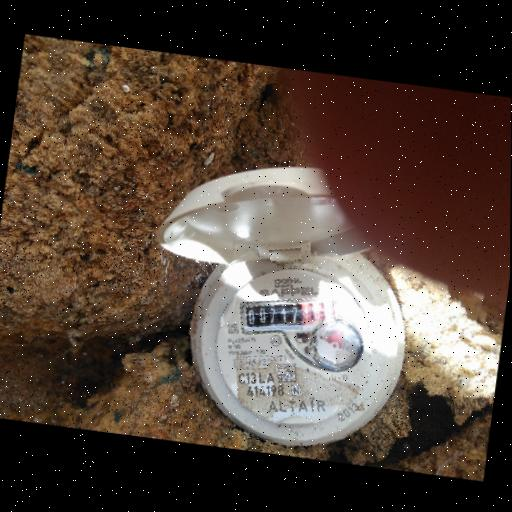0: (254, 302, 272, 329), (243, 303, 261, 328)
1: (275, 302, 294, 327), (297, 302, 315, 327)
7: (265, 302, 283, 328), (286, 301, 304, 327)
8: (309, 301, 326, 326)
border_water_meter_number: (235, 284, 342, 347)
